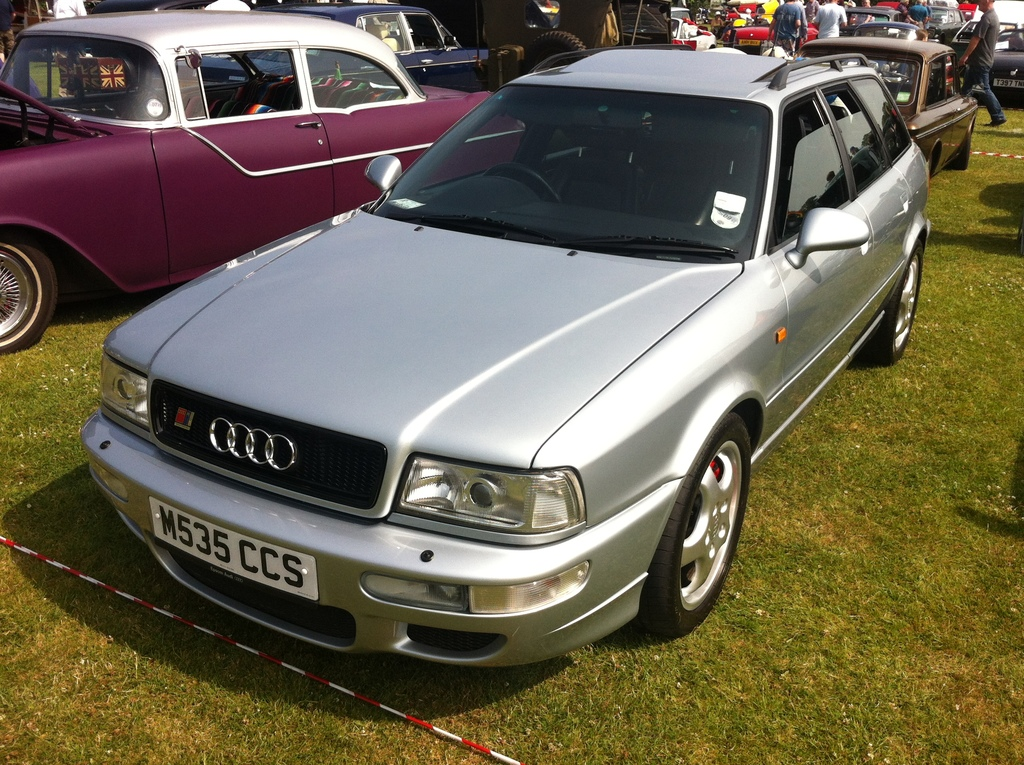Car: (67, 39, 899, 672), (0, 11, 519, 352), (670, 0, 1023, 167), (173, 2, 497, 88)
